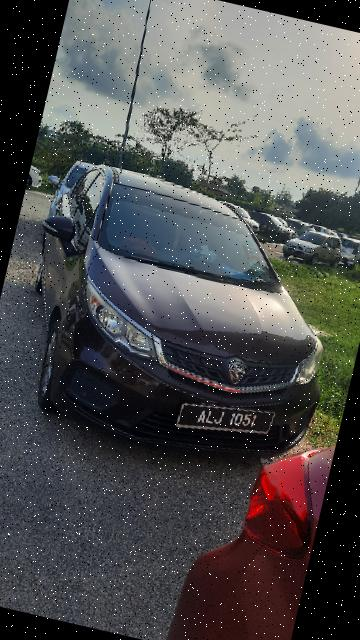License_Plate: (172, 387, 284, 454)
car: (1, 153, 360, 485)
